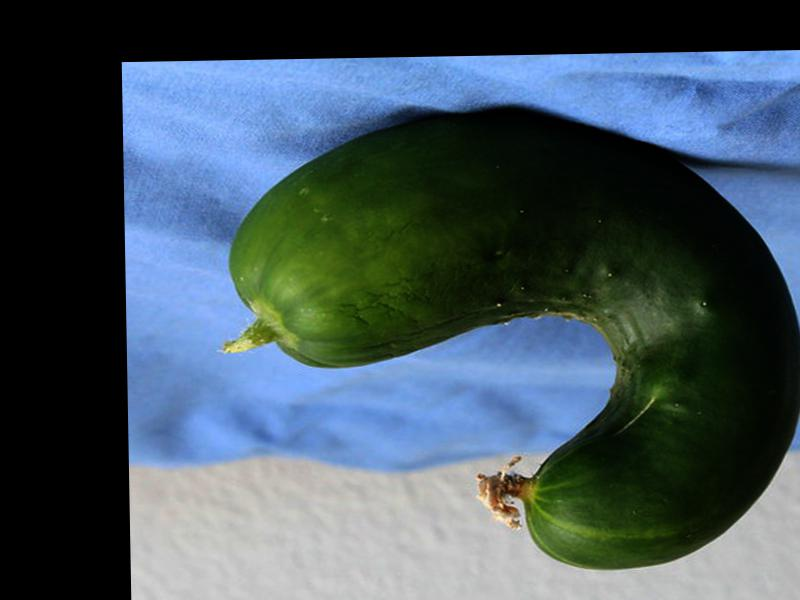Cucumber: (226, 106, 800, 577)
